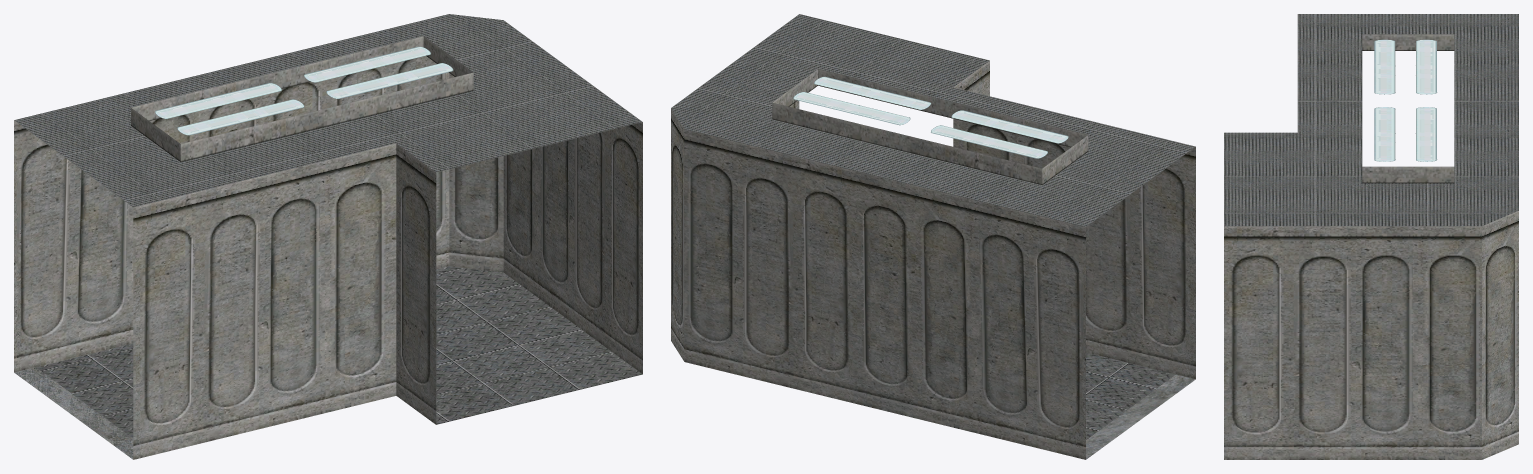
File: mun_nboo_guild_combat_s01_r2_halla_mesh_halla.fbx
3 views of the same model, side by side, from view 1: azimuth 30°, elevation 25°; view 2: azimuth 150°, elevation 25°; view 3: azimuth 270°, elevation 25° (orthographic). The views are drawn at different scales.
Visible parts, largest first — view 1: mesh_node; view 2: mesh_node; view 3: mesh_node.
Boxes of the visible parts, left/top/right/bottom form: mesh_node: left=14, top=14, right=642, bottom=459; mesh_node: left=671, top=14, right=1195, bottom=459; mesh_node: left=1224, top=14, right=1518, bottom=459.
Bounding box in the file's own units: 6.82 × 3.75 × 4.
